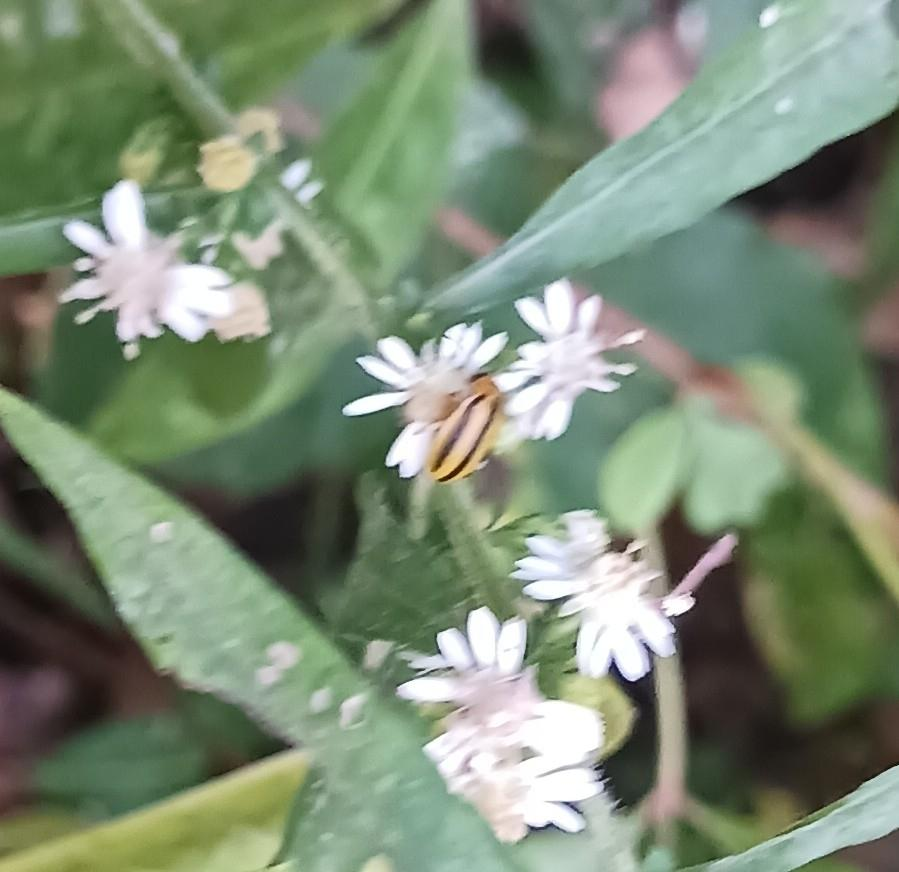potato_beetle: (394, 338, 528, 520)
